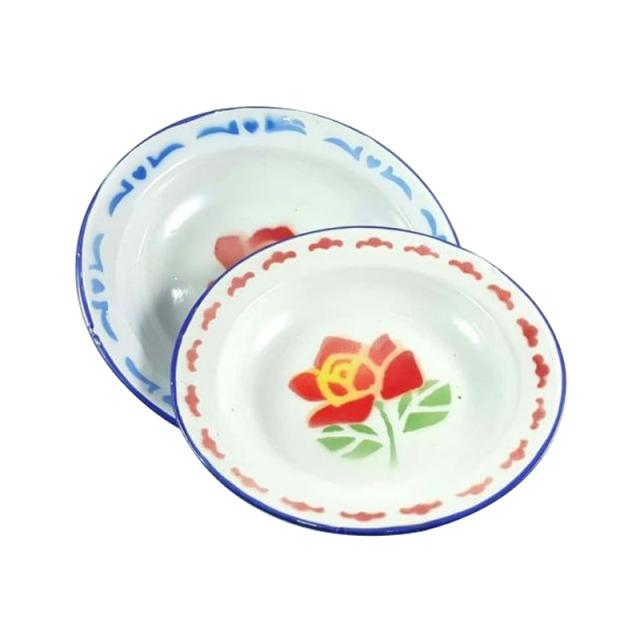Piring: (72, 91, 485, 443), (162, 215, 580, 542)
